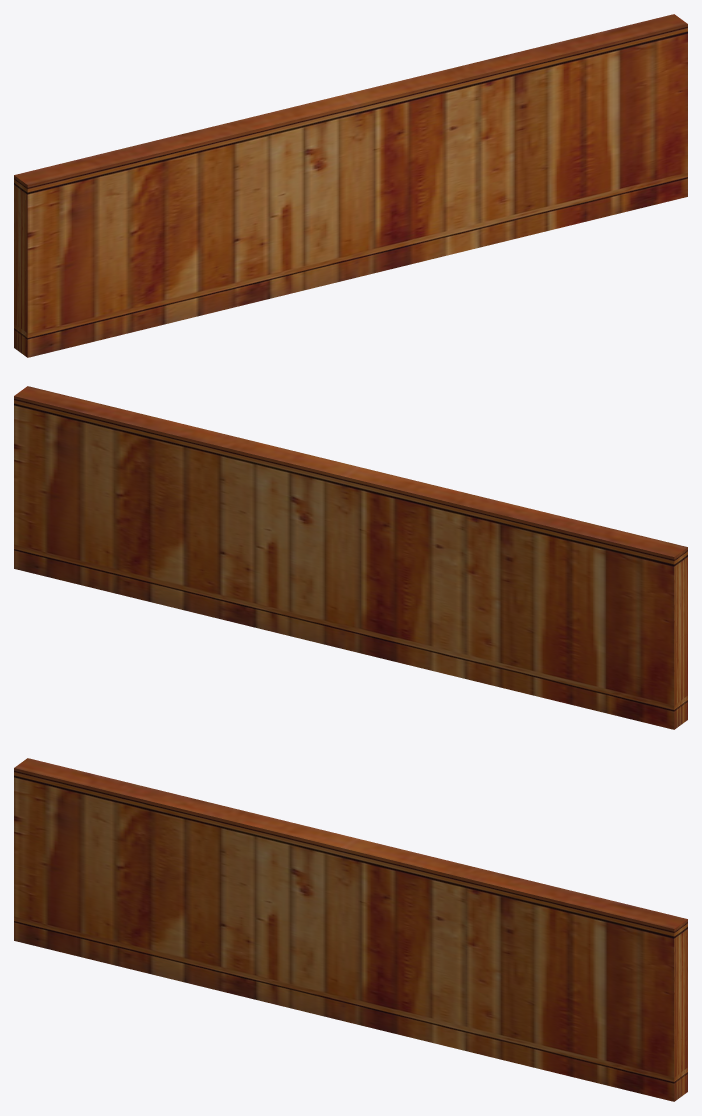
Rendered from Fence36.FBX.
3 renders of one model, top to bottom at view 1: azimuth 30°, elevation 25°; view 2: azimuth 150°, elevation 25°; view 3: azimuth 330°, elevation 25°, orthographic.
Visible parts, largest first — view 1: Fence_Part_2, Fence_Part_5, Fence_Part_1, Fence_Part_6, Fence_Part_7, Fence_Part_4, Fence_Part_3, Fence_Part_8; view 2: Fence_Part_2, Fence_Part_5, Fence_Part_1, Fence_Part_6, Fence_Part_4, Fence_Part_7, Fence_Part_3, Fence_Part_8; view 3: Fence_Part_2, Fence_Part_1, Fence_Part_5, Fence_Part_6, Fence_Part_4, Fence_Part_7, Fence_Part_3, Fence_Part_8.
Part boxes in pixels (x1,y1,x2,y2): Fence_Part_2: (317,53,524,272); Fence_Part_5: (14,151,166,357); Fence_Part_1: (136,137,376,331); Fence_Part_6: (113,101,332,235); Fence_Part_7: (388,151,618,269); Fence_Part_4: (555,66,687,213); Fence_Part_3: (503,35,612,151); Fence_Part_8: (589,14,687,137); Fence_Part_2: (175,426,382,644); Fence_Part_5: (534,523,687,729); Fence_Part_1: (326,508,564,702); Fence_Part_6: (371,473,590,604); Fence_Part_4: (14,440,146,585); Fence_Part_7: (85,525,310,641); Fence_Part_3: (90,406,197,525); Fence_Part_8: (14,386,111,512); Fence_Part_2: (318,832,525,1028); Fence_Part_1: (122,868,362,1025); Fence_Part_5: (14,758,152,966); Fence_Part_6: (111,782,330,885); Fence_Part_4: (542,934,687,1101); Fence_Part_7: (374,966,604,1084); Fence_Part_3: (490,879,601,991); Fence_Part_8: (590,898,687,1042).
Bounding box in the file's own units: 8 × 2 × 0.2869.
